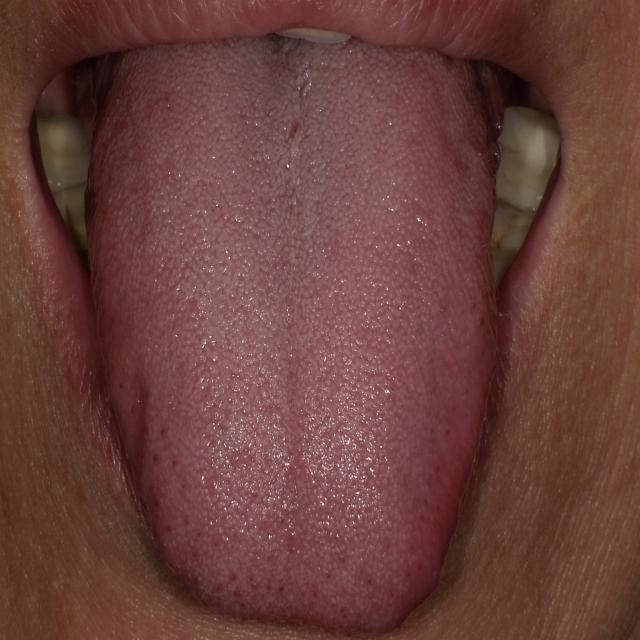baitaishe: (85, 43, 500, 634)
hongdianshe: (155, 424, 170, 439), (148, 450, 162, 465), (276, 581, 289, 594)
hongshe: (85, 43, 500, 634)
